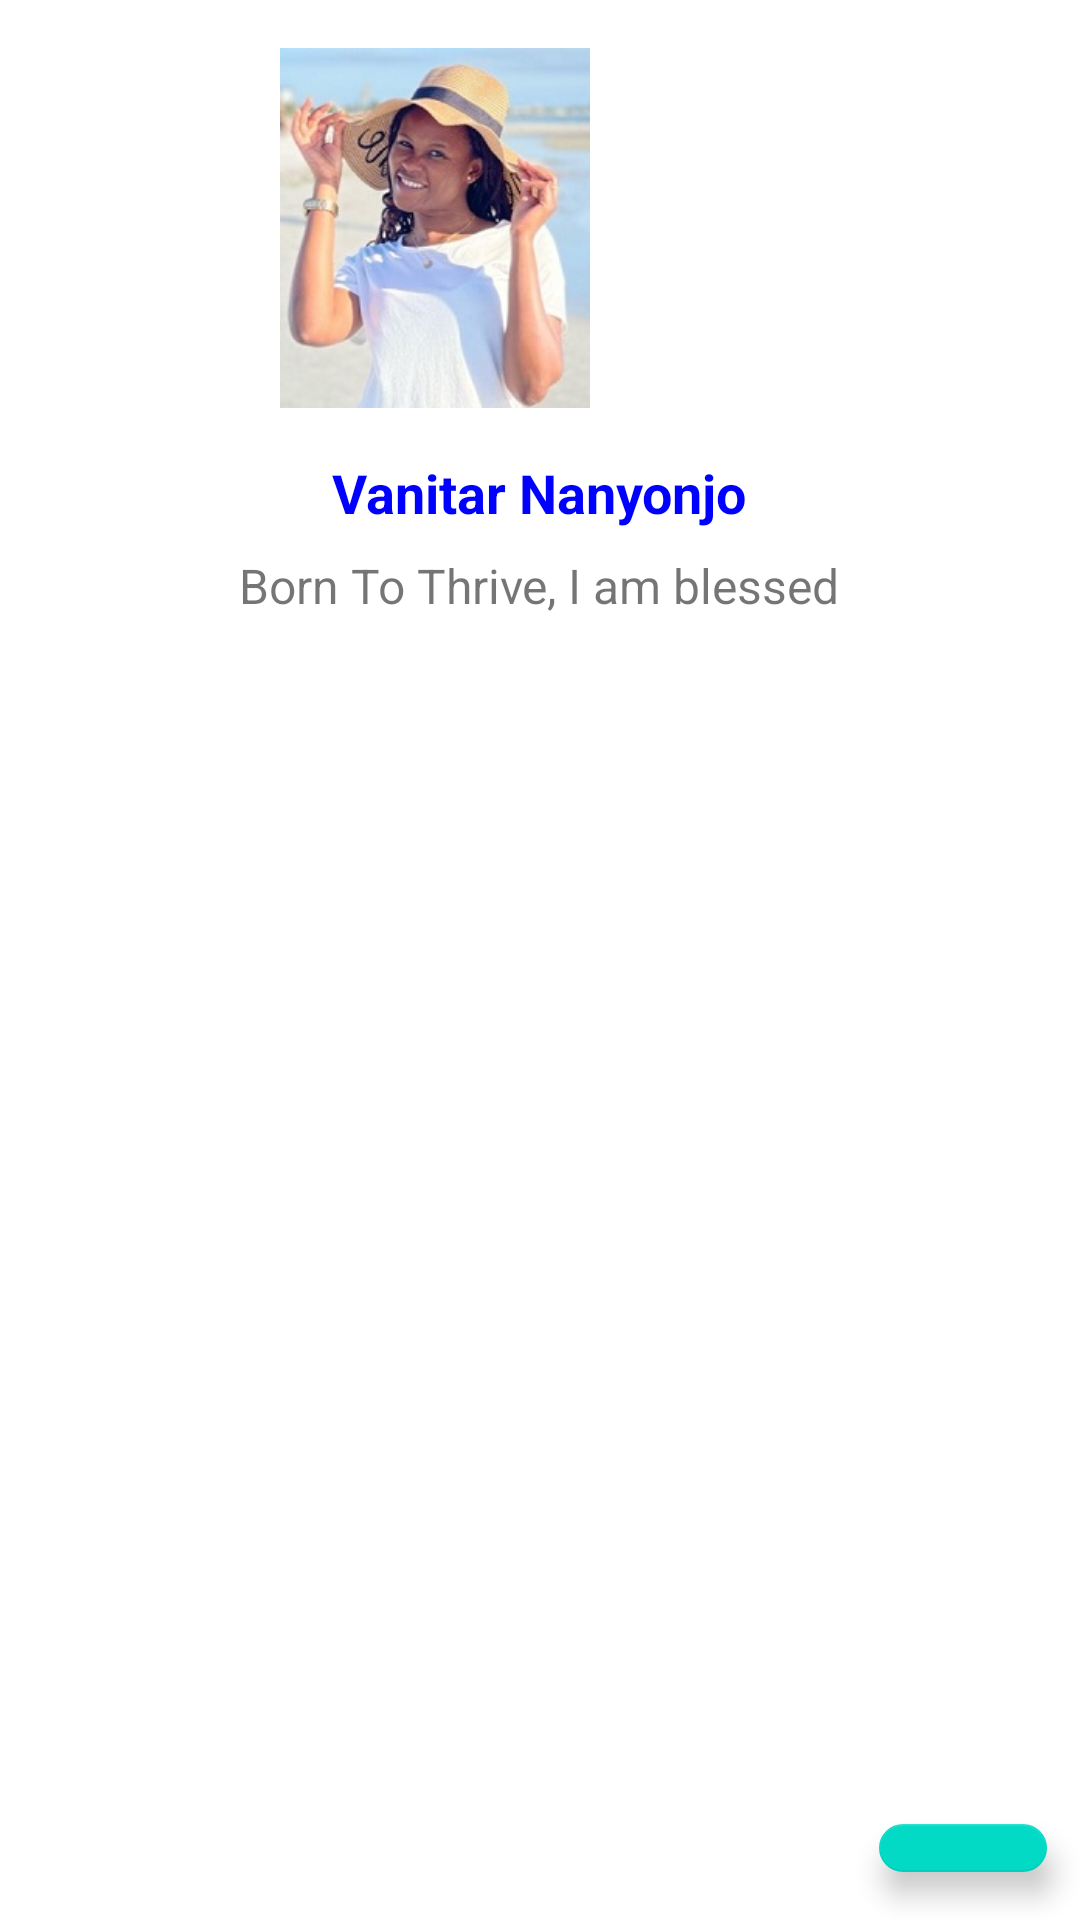

Where icons sit on this 1080px×1920px app screen, as (x1=x1, y1=y1, x2=x2, y2=y2):
profile pic: (x1=280, y1=48, x2=590, y2=408)
